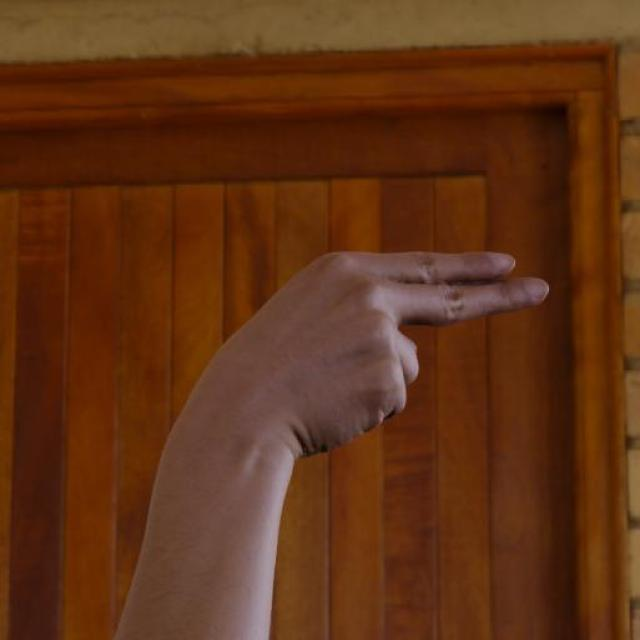H: (220, 248, 552, 454)
